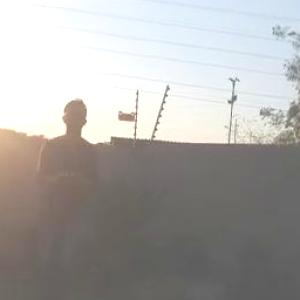follow: (27, 87, 102, 299)
